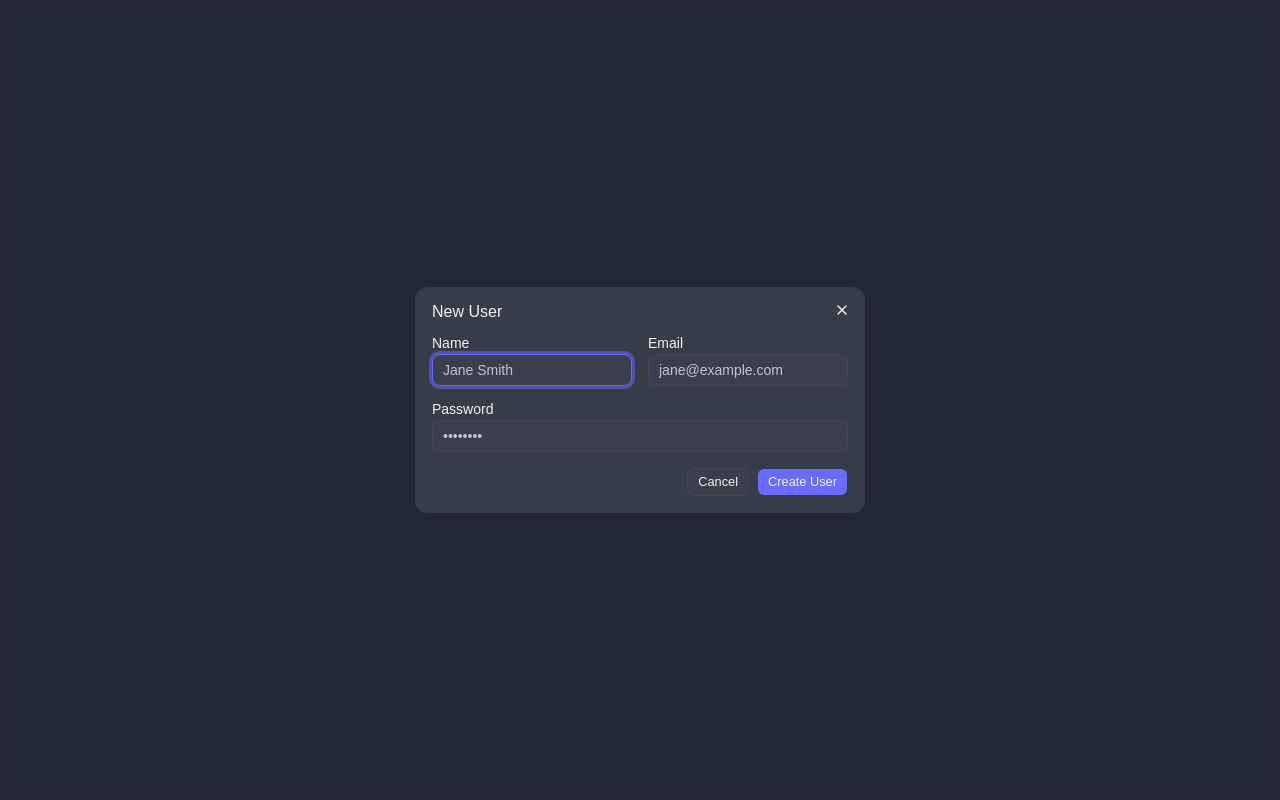
Test: create mode › shows required errors when submitted empty
The image size is (1280, 800).
Click the button "Create User": {"x": 802, "y": 482} [757,468,848,496]
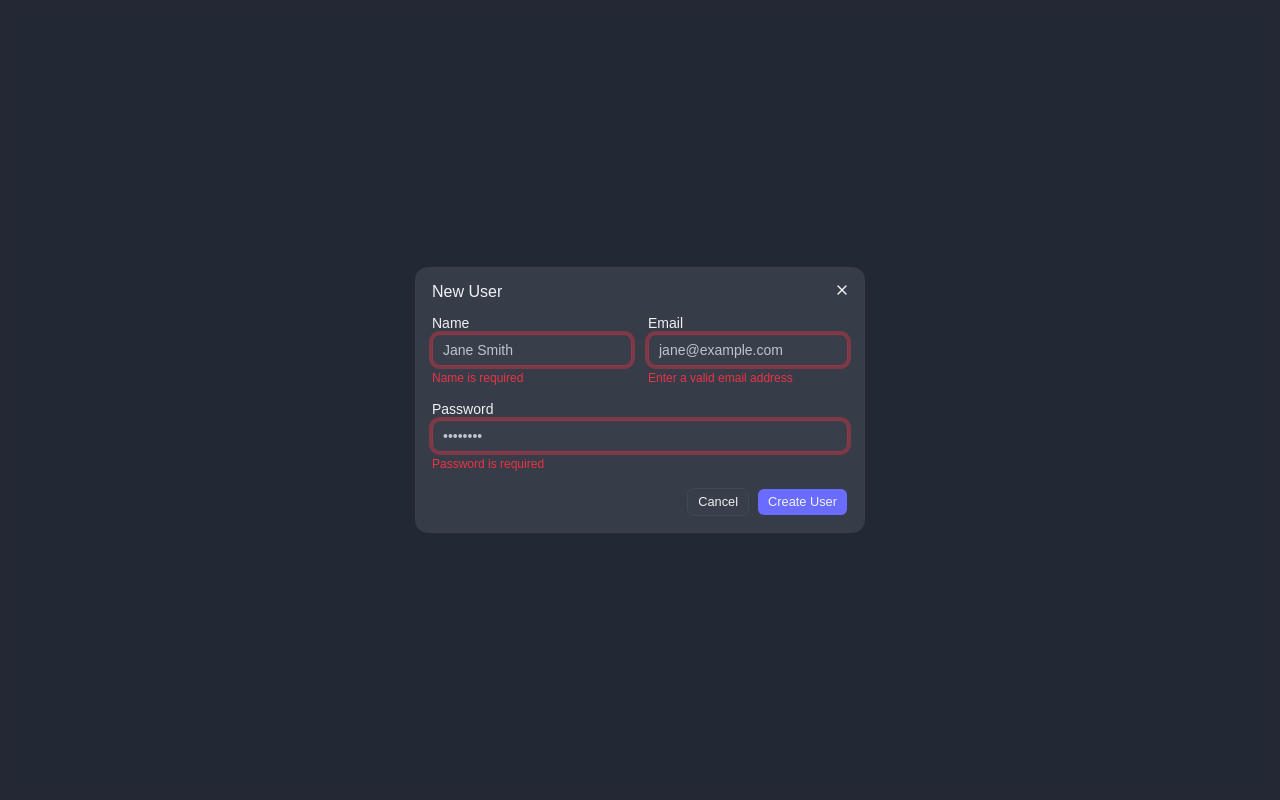
Expected: the text "Name is required" is shown, [432,371,523,385]
Expected: the text "Enter a valid email address" is shown, [648,371,793,385]
Expected: the text "Password is required" is shown, [432,457,544,471]
